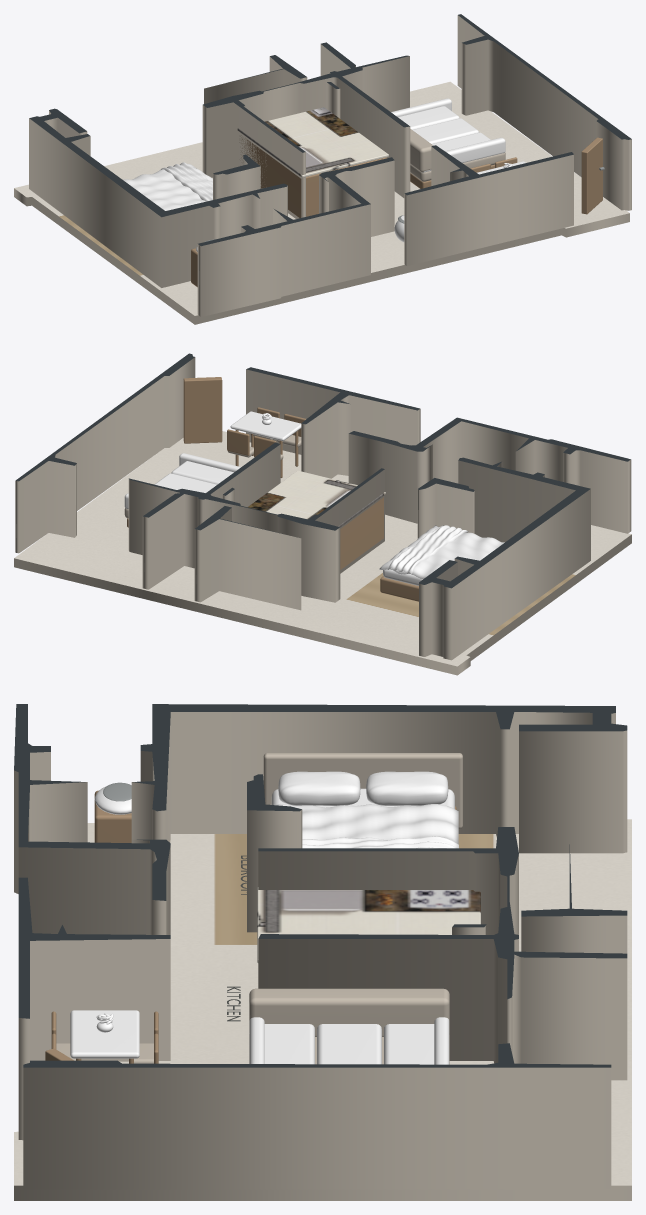
The model's file is carina-vega-unit-08.glb.
3 renders of one model, top to bottom at view 1: azimuth 30°, elevation 25°; view 2: azimuth 150°, elevation 25°; view 3: azimuth 270°, elevation 25°, orthographic. The views are drawn at different scales.
Parts seen in each view (by area): view 1: Partition walls, Apartment floor, Stone worktop, Kitchen cabinets, Draped bed linen, Open oak door, Seat cushion.001, Draped bed linen.001, Padded armrest, Seat cushion.002, Sofa back, Upholstered sofa frame (+2 smaller); view 2: Partition walls, Apartment floor, Stone worktop, Open oak door, Draped bed linen, Kitchen cabinets, Draped bed linen.001, Marble dining top, Seat cushion, Seat cushion.001, Walnut upholstered base, Chair back.003 (+1 smaller); view 3: Partition walls, Apartment floor, Stone worktop, Sofa back, Draped bed linen, Upholstered headboard, Marble dining top, Tailored pillow, Tailored pillow.001, Seat cushion.001, Seat cushion.002, Seat cushion (+4 smaller).
Boxes of the visible parts, <box> form: Partition walls: <box>29,14,631,316</box>; Apartment floor: <box>14,81,629,324</box>; Stone worktop: <box>237,107,388,177</box>; Kitchen cabinets: <box>239,135,387,217</box>; Draped bed linen: <box>123,163,212,210</box>; Open oak door: <box>581,137,602,214</box>; Seat cushion.001: <box>412,118,478,143</box>; Draped bed linen.001: <box>160,162,212,201</box>; Padded armrest: <box>422,137,505,172</box>; Seat cushion.002: <box>398,106,459,129</box>; Sofa back: <box>410,129,432,171</box>; Upholstered sofa frame: <box>410,152,505,181</box>; Partition walls: <box>15,353,631,660</box>; Apartment floor: <box>14,431,631,675</box>; Stone worktop: <box>248,470,385,527</box>; Open oak door: <box>183,377,222,443</box>; Draped bed linen: <box>379,525,504,579</box>; Kitchen cabinets: <box>340,497,383,569</box>; Draped bed linen.001: <box>387,525,468,574</box>; Marble dining top: <box>230,411,301,441</box>; Seat cushion: <box>171,461,233,484</box>; Seat cushion.001: <box>154,473,216,492</box>; Walnut upholstered base: <box>380,576,418,601</box>; Chair back.003: <box>227,429,249,455</box>; Partition walls: <box>14,704,627,1189</box>; Apartment floor: <box>14,819,631,1200</box>; Stone worktop: <box>257,887,480,962</box>; Sofa back: <box>249,988,449,1036</box>; Draped bed linen: <box>274,803,458,844</box>; Upholstered headboard: <box>263,753,462,828</box>; Marble dining top: <box>70,1010,139,1058</box>; Tailored pillow: <box>278,771,360,805</box>; Tailored pillow.001: <box>366,771,448,805</box>; Seat cushion.001: <box>317,1024,381,1064</box>; Seat cushion.002: <box>384,1024,434,1064</box>; Seat cushion: <box>264,1024,314,1064</box>.
Size of the model in its own units: 8.34 by 1.44 by 5.88.
Materials: 12 (2 with a texture image).
